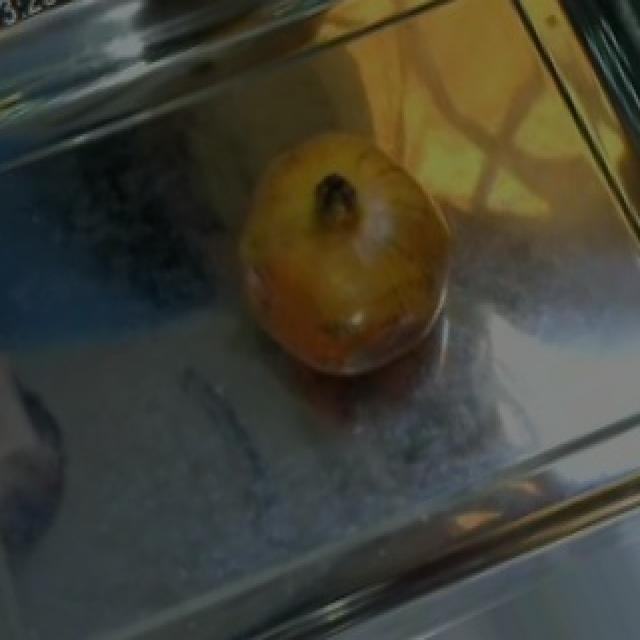fruit: (212, 126, 490, 404)
